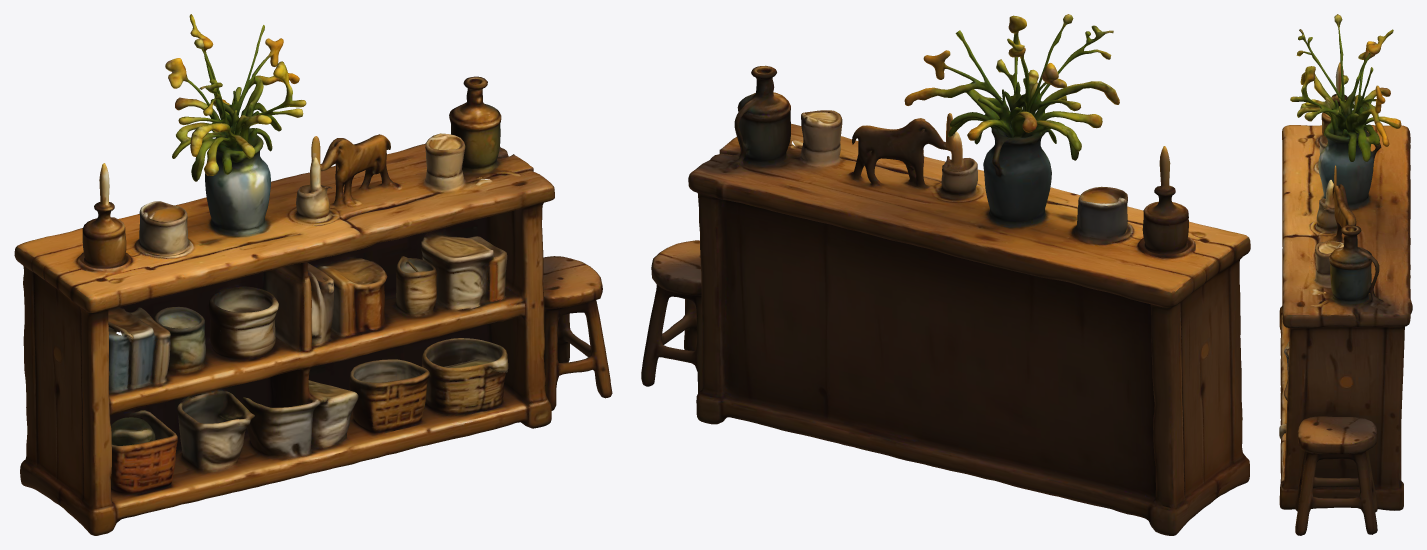
Rendered from display-shelf.glb.
3 renders of one model, left to right at view 1: azimuth 30°, elevation 25°; view 2: azimuth 150°, elevation 25°; view 3: azimuth 270°, elevation 25°, orthographic. The views are drawn at different scales.
Parts seen in each view (by area): view 1: tripo_node_f5f9a422; view 2: tripo_node_f5f9a422; view 3: tripo_node_f5f9a422.
Part boxes in pixels (box(x1,y1,x2,y2)): tripo_node_f5f9a422: box(14, 14, 612, 535); tripo_node_f5f9a422: box(641, 14, 1250, 535); tripo_node_f5f9a422: box(1279, 14, 1412, 535).
Bounding box in the file's own units: 97.83 × 76.8 × 25.29.
Materials: 1 (1 with a texture image).
